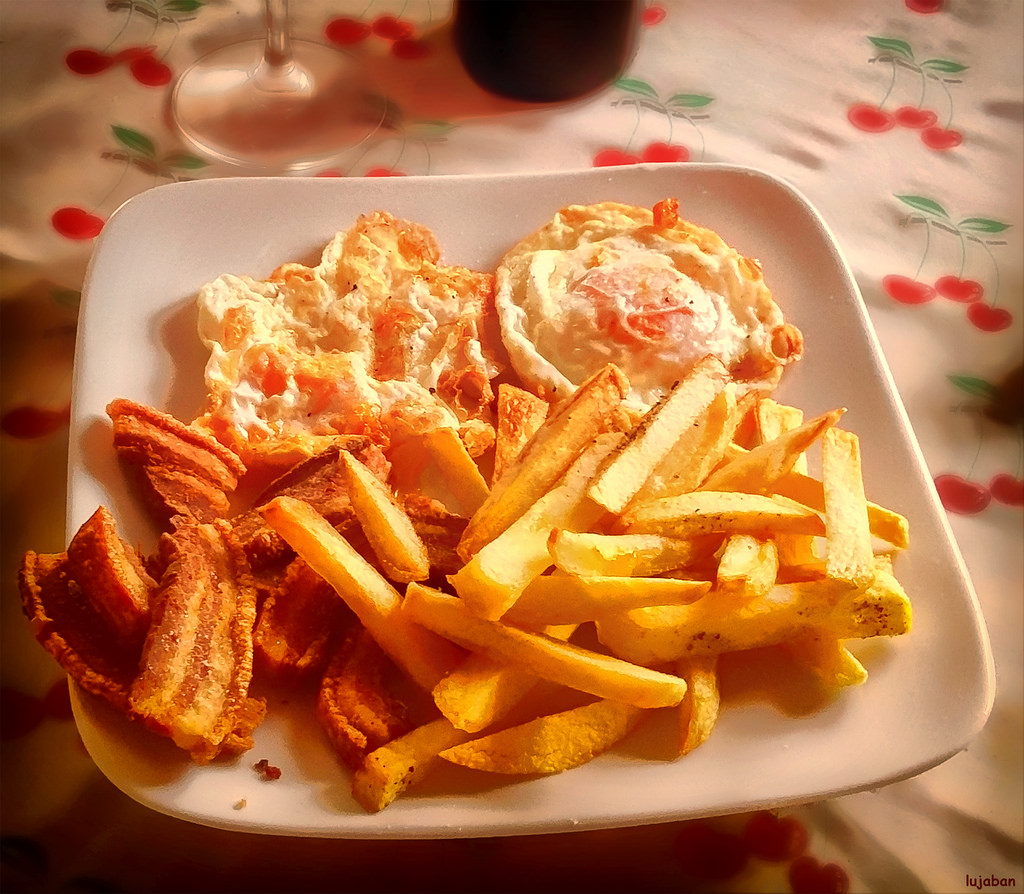fried egg: (232, 242, 737, 360)
